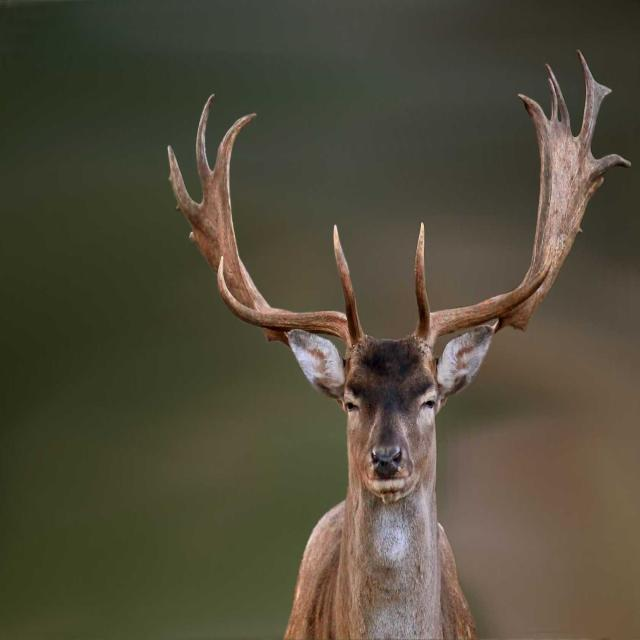Deer: (166, 49, 630, 640)
